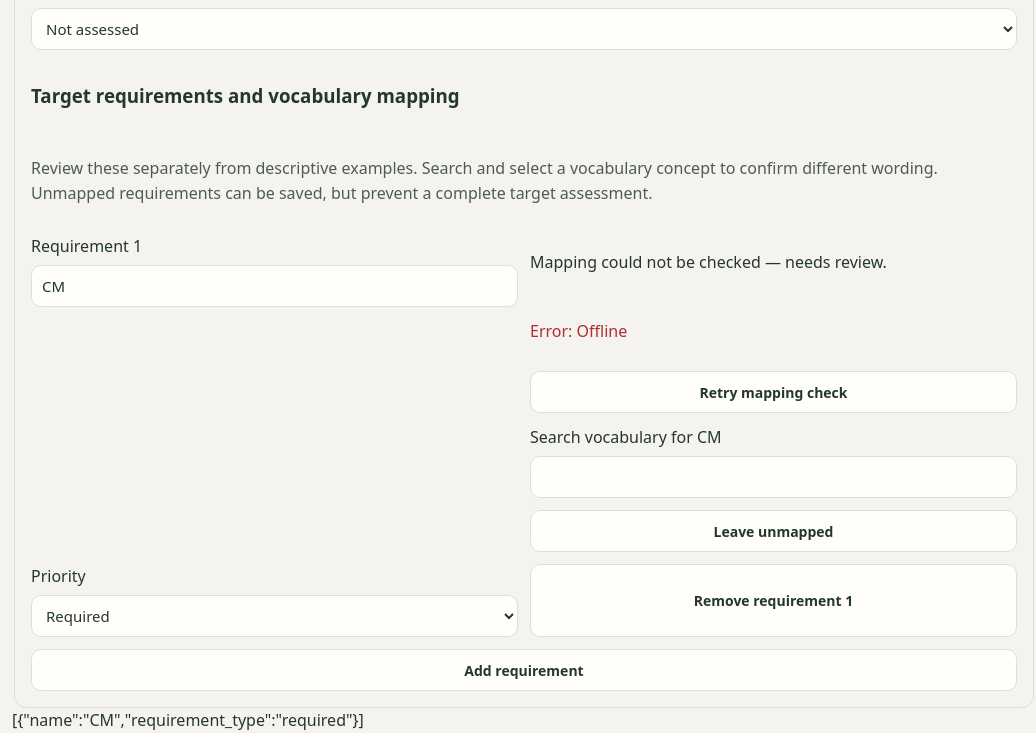
Test: reports a failed resolution and supports retry without losing wording
This screenshot has width=1036, height=733.
(page scrolled)
Expected: the message "Error: Offline" is shown, [530,320,627,342]
Expected: the field labelled "Requirement 1" holds "CM", [31,265,518,307]
Click the button "Retry mapping check" at (774, 392), box [530,372,1017,414]
(page scrolled)
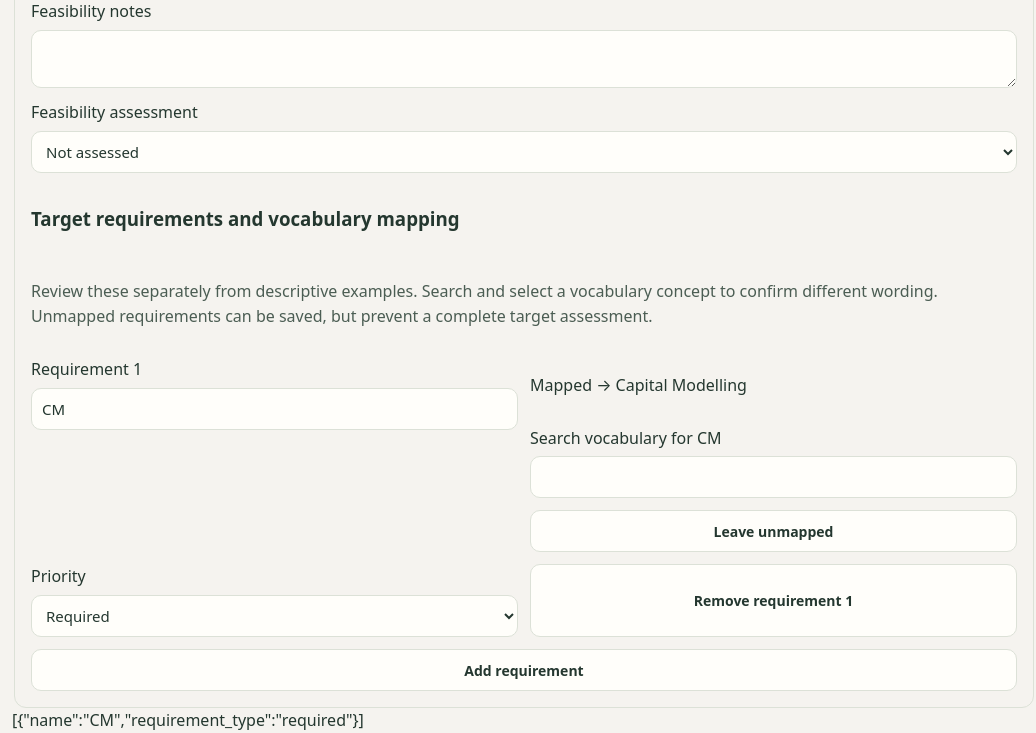
Expected: the text "Mapped → Capital Modelling" is shown, [530,374,747,396]
